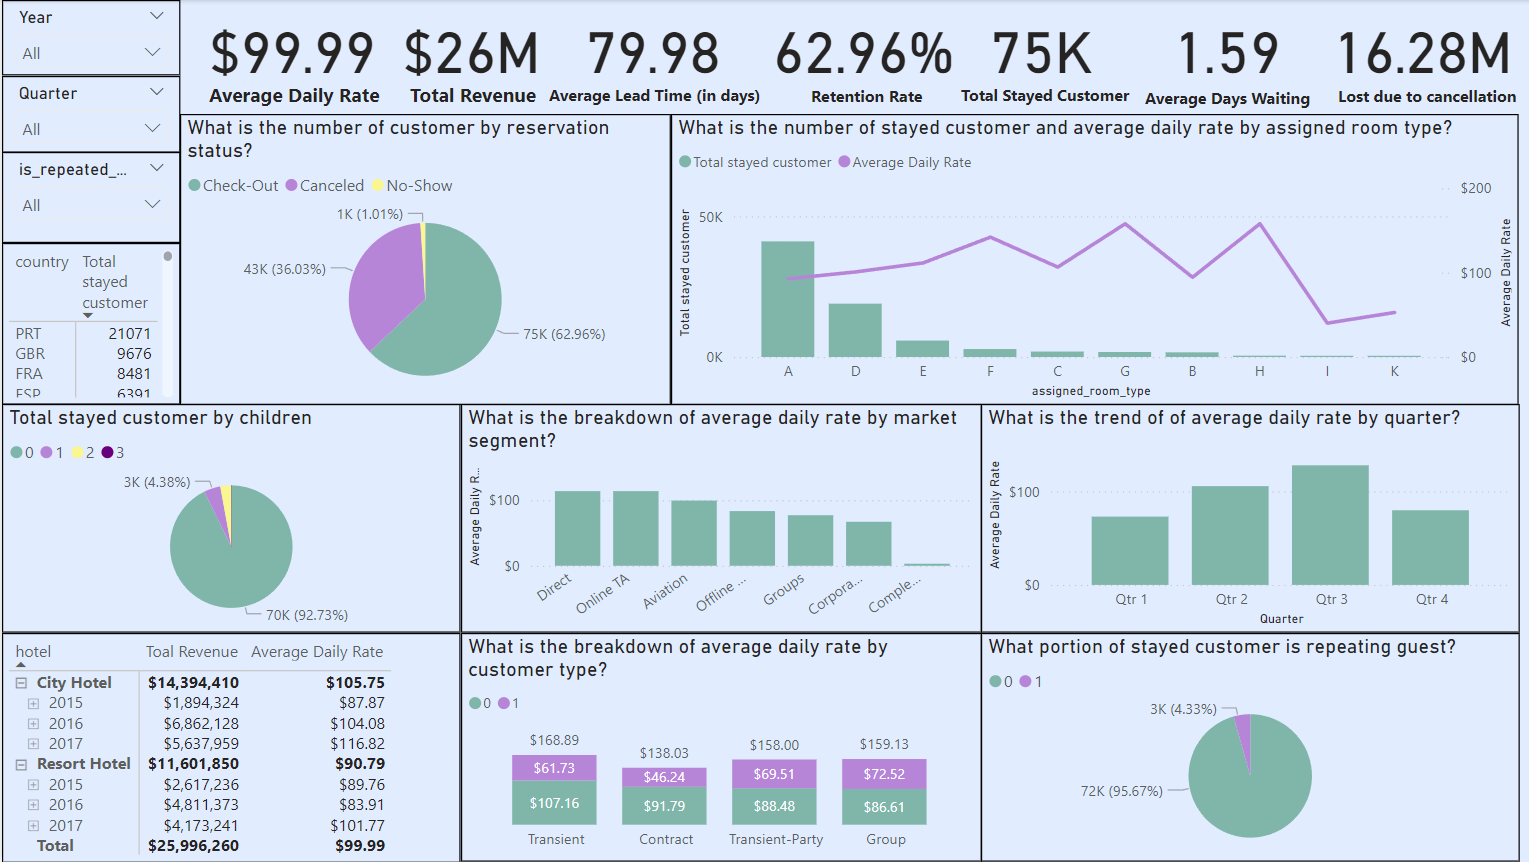

Layout of this report page (visuals, bound fields, positions):
{"tool":"powerbi","page":{"name":"Page 1","canvas":[1280,720],"ordinal":0},"visuals":[{"type":"card","fields":{"Values":["Key Measures.Average Daily Rate"]},"box":[168,0,149.3,77.3],"z":0},{"type":"card","fields":{"Values":["Key Measures.Average Lead Time(in days)"]},"box":[470.3,0,146.7,77.3],"z":1000},{"type":"card","fields":{"Values":["Key Measures.Booking to Stay Rate"]},"box":[636.5,0,166.2,77.3],"z":2000},{"type":"card","fields":{"Values":["Key Measures.Total stayed customer"]},"box":[781.9,0,172.2,77.2],"z":3000},{"type":"lineClusteredColumnComboChart","title":"What is the number of stayed customer and average daily rate by assigned room type?","fields":{"Category":["hotel_bookings.assigned_room_type"],"Y":["Key Measures.Total stayed customer"],"Y2":["Key Measures.Average Daily Rate"]},"box":[558.6,94.9,708.5,243],"z":4000},{"type":"columnChart","title":"What is the trend of of average daily rate by quarter?","fields":{"Category":["hotel_bookings.arrival_date.Variation.Date Hierarchy.Quarter"],"Y":["Key Measures.Average Daily Rate"]},"box":[817.7,337.8,449.8,191.1],"z":5000},{"type":"card","fields":{"Values":["Key Measures.Toal Revenue"]},"box":[303.1,0,177.8,77.3],"z":6000},{"type":"card","fields":{"Values":["Key Measures.Money Lost due to cancelation"]},"box":[1103.1,0,165.8,77.1],"z":7000},{"type":"pivotTable","fields":{"Rows":["hotel_bookings.hotel","hotel_bookings.arrival_date.Variation.Date Hierarchy.Year","hotel_bookings.arrival_date.Variation.Date Hierarchy.Quarter","hotel_bookings.arrival_date.Variation.Date Hierarchy.Month","hotel_bookings.arrival_date.Variation.Date Hierarchy.Day"],"Values":["Key Measures.Toal Revenue","Key Measures.Average Daily Rate"]},"box":[0,528.5,383.1,191.5],"z":8000},{"type":"pieChart","title":"What is the number of customer by reservation status?","fields":{"Category":["hotel_bookings.reservation_status"],"Y":["Key Measures.Total Customers"]},"box":[149,94.9,409.7,243],"z":9000},{"type":"pieChart","title":"What portion of stayed customer is repeating guest?","fields":{"Y":["Key Measures.Total stayed customer"],"Category":["hotel_bookings.is_repeated_guest"]},"box":[817.7,528.9,449.8,191.1],"z":10000},{"type":"columnChart","title":"What is the breakdown of average daily rate by market segment?","fields":{"Category":["hotel_bookings.market_segment"],"Y":["Key Measures.Average Daily Rate"]},"box":[383.1,337.8,434.7,191.1],"z":11000},{"type":"columnChart","title":"What is the breakdown of average daily rate by customer type?","fields":{"Y":["Key Measures.Average Daily Rate"],"Category":["hotel_bookings.customer_type"],"Series":["hotel_bookings.is_repeated_guest"]},"box":[383.1,528.9,434.7,191.1],"z":12000},{"type":"card","fields":{"Values":["Key Measures.Average Days in Waiting List"]},"box":[955.6,0,135.1,77.3],"z":13000},{"type":"pivotTable","fields":{"Rows":["hotel_bookings.country"],"Values":["Key Measures.Total stayed customer"]},"box":[0,203.1,149,134.8],"z":14000},{"type":"slicer","fields":{"Values":["hotel_bookings.arrival_date.Variation.Date Hierarchy.Quarter"]},"box":[0,63.1,149.3,64],"z":15000},{"type":"slicer","fields":{"Values":["hotel_bookings.arrival_date.Variation.Date Hierarchy.Year"]},"box":[0,0,149.3,63.1],"z":16000},{"type":"slicer","fields":{"Values":["hotel_bookings.is_repeated_guest"]},"box":[0,127.1,149.3,76.4],"z":17000},{"type":"textbox","box":[168.2,63.3,165.3,34.6],"z":18000},{"type":"textbox","box":[336.2,63.3,126.7,38.6],"z":19000},{"type":"textbox","box":[452.2,65.3,198.9,34.6],"z":20000},{"type":"textbox","box":[670.6,66.3,122.7,29.7],"z":21000},{"type":"textbox","box":[795.7,65.3,165.3,34.6],"z":22000},{"type":"textbox","box":[949.7,67.4,161.4,34.6],"z":23000},{"type":"textbox","box":[1111,65.6,169.4,27.5],"z":24000},{"type":"pieChart","fields":{"Y":["Key Measures.Total stayed customer"],"Series":["hotel_bookings.children"]},"box":[0,337.8,383.1,190.6],"z":25000}]}

Visuals, with their boxes in screenshot pixels (x1, y1, x2, y2), scaled from the page's 1280x720 canvas onto the 1529x862 screenshot:
card - Key Measures.Average Daily Rate: (x1=201, y1=0, x2=379, y2=93)
card - Key Measures.Average Lead Time(in days): (x1=562, y1=0, x2=737, y2=93)
card - Key Measures.Booking to Stay Rate: (x1=760, y1=0, x2=959, y2=93)
card - Key Measures.Total stayed customer: (x1=934, y1=0, x2=1140, y2=92)
"What is the number of stayed customer and average daily rate by assigned room type?" lineClusteredColumnComboChart: (x1=667, y1=114, x2=1514, y2=405)
"What is the trend of of average daily rate by quarter?" columnChart: (x1=977, y1=404, x2=1514, y2=633)
card - Key Measures.Toal Revenue: (x1=362, y1=0, x2=574, y2=93)
card - Key Measures.Money Lost due to cancelation: (x1=1318, y1=0, x2=1516, y2=92)
pivotTable - hotel_bookings.hotel x hotel_bookings.arrival_date.Variation.Date Hierarchy.Year: (x1=0, y1=633, x2=458, y2=861)
"What is the number of customer by reservation status?" pieChart: (x1=178, y1=114, x2=667, y2=405)
"What portion of stayed customer is repeating guest?" pieChart: (x1=977, y1=633, x2=1514, y2=861)
"What is the breakdown of average daily rate by market segment?" columnChart: (x1=458, y1=404, x2=977, y2=633)
"What is the breakdown of average daily rate by customer type?" columnChart: (x1=458, y1=633, x2=977, y2=861)
card - Key Measures.Average Days in Waiting List: (x1=1141, y1=0, x2=1303, y2=93)
pivotTable - hotel_bookings.country x Key Measures.Total stayed customer: (x1=0, y1=243, x2=178, y2=405)
slicer - hotel_bookings.arrival_date.Variation.Date Hierarchy.Quarter: (x1=0, y1=76, x2=178, y2=152)
slicer - hotel_bookings.arrival_date.Variation.Date Hierarchy.Year: (x1=0, y1=0, x2=178, y2=76)
slicer - hotel_bookings.is_repeated_guest: (x1=0, y1=152, x2=178, y2=244)
textbox: (x1=201, y1=76, x2=398, y2=117)
textbox: (x1=402, y1=76, x2=553, y2=122)
textbox: (x1=540, y1=78, x2=778, y2=120)
textbox: (x1=801, y1=79, x2=948, y2=115)
textbox: (x1=950, y1=78, x2=1148, y2=120)
textbox: (x1=1134, y1=81, x2=1327, y2=122)
textbox: (x1=1327, y1=79, x2=1528, y2=111)
pieChart - Key Measures.Total stayed customer x hotel_bookings.children: (x1=0, y1=404, x2=458, y2=633)
